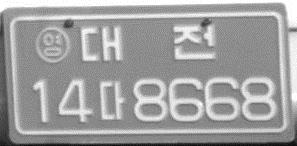1: (31, 77, 49, 124)
4: (55, 77, 94, 123)
6: (168, 75, 205, 123), (204, 75, 240, 123)
8: (240, 75, 277, 122), (132, 77, 169, 123)
다: (97, 79, 126, 123)
대전_D: (78, 23, 216, 63)
영: (34, 25, 71, 65)
